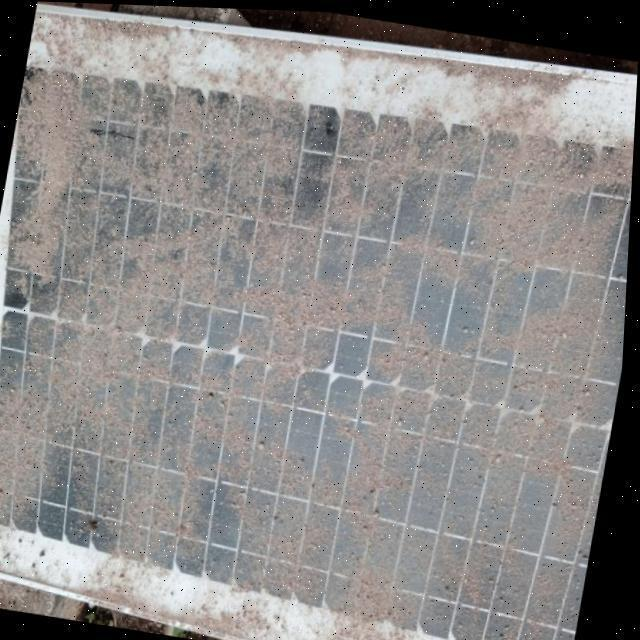Surface Contaminant: (0, 28, 636, 640)
